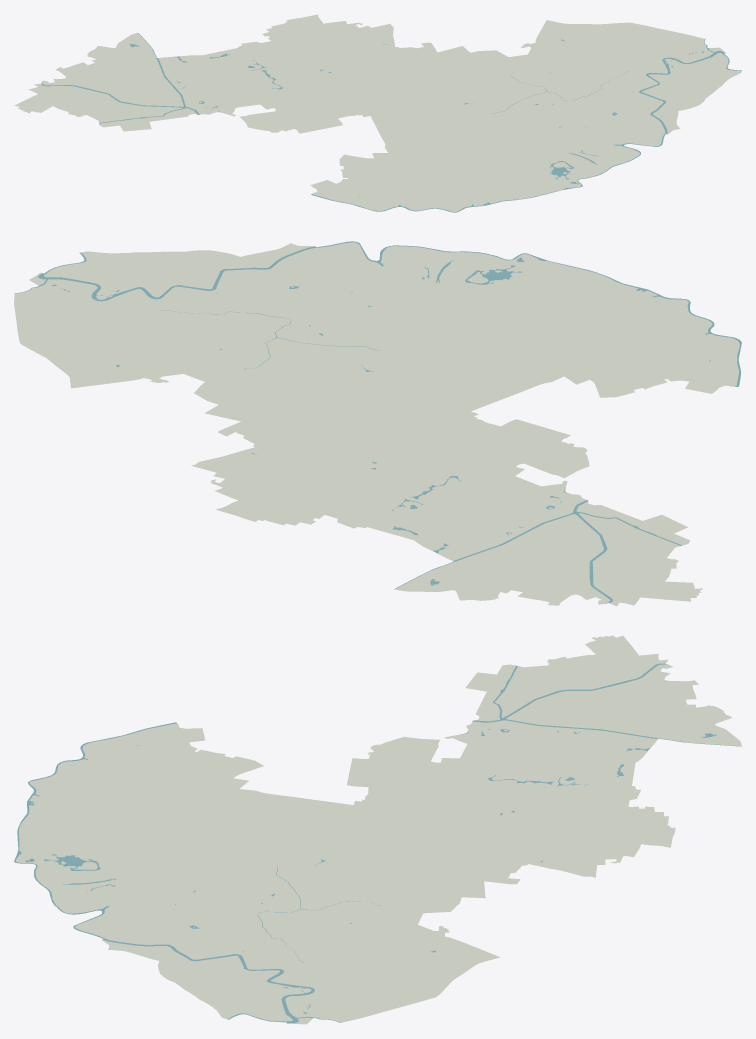
3 renders of one model, top to bottom at view 1: azimuth 30°, elevation 25°; view 2: azimuth 150°, elevation 25°; view 3: azimuth 270°, elevation 25°, orthographic. The views are drawn at different scales.
Visible parts, largest first — view 1: ground-proxy, mapped-water; view 2: ground-proxy, mapped-water; view 3: ground-proxy, mapped-water.
Boxes of the visible parts, left/top/right/bottom form: ground-proxy: left=14, top=14, right=741, bottom=211; mapped-water: left=41, top=33, right=741, bottom=212; ground-proxy: left=14, top=242, right=739, bottom=606; mapped-water: left=14, top=241, right=741, bottom=603; ground-proxy: left=15, top=635, right=741, bottom=1024; mapped-water: left=14, top=663, right=741, bottom=1022.
Bounding box in the file's own units: 11913 × 0 × 9421.
